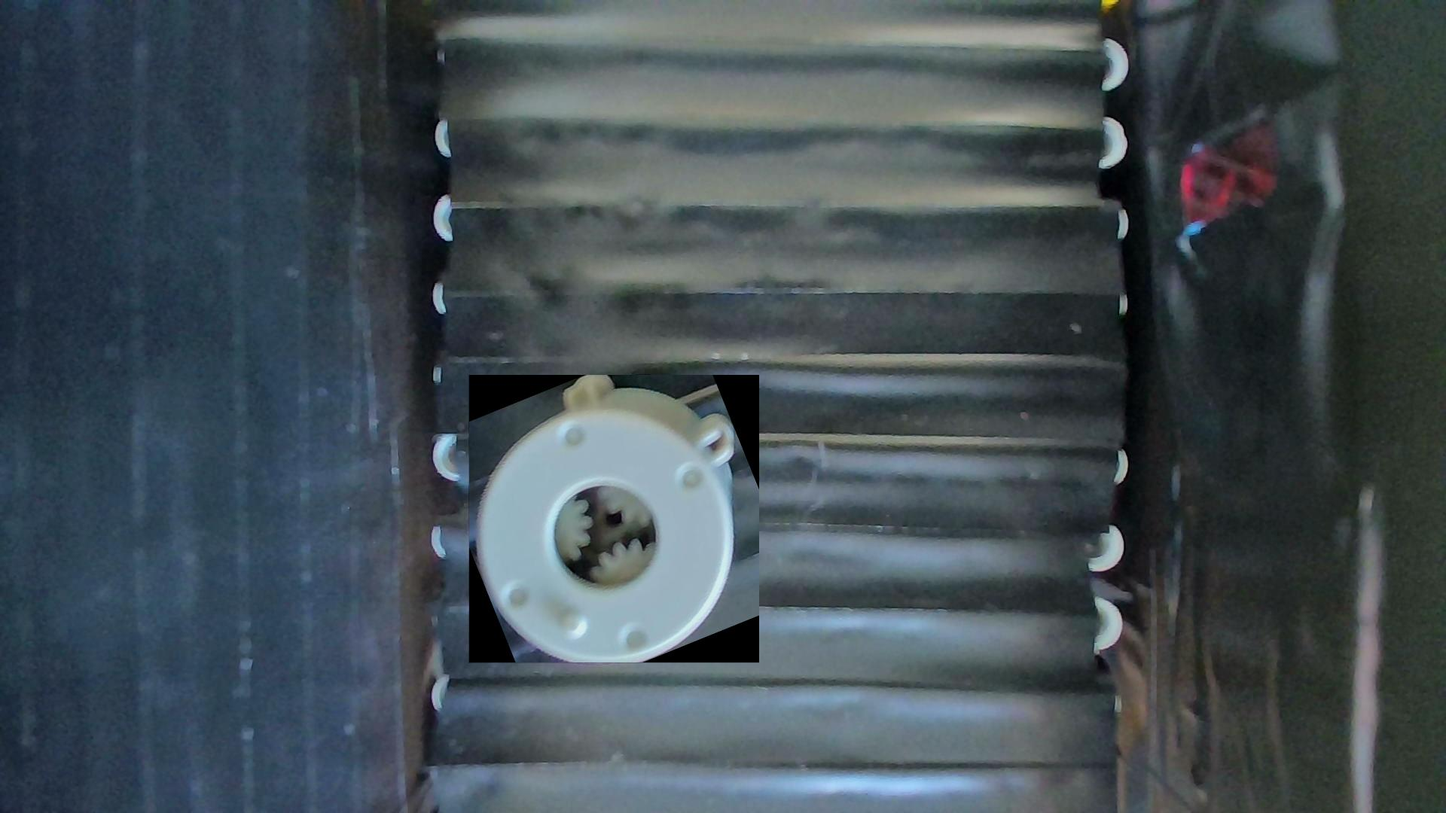cartridge: (468, 375, 758, 664)
